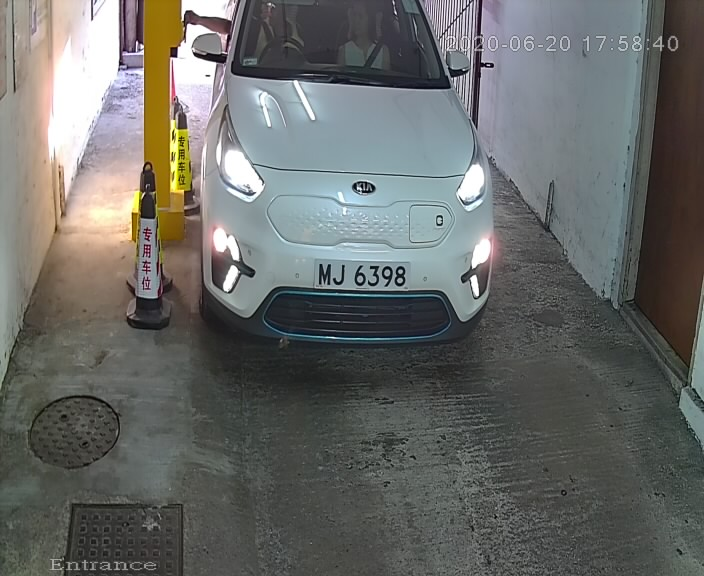privatecar: (190, 2, 524, 356)
